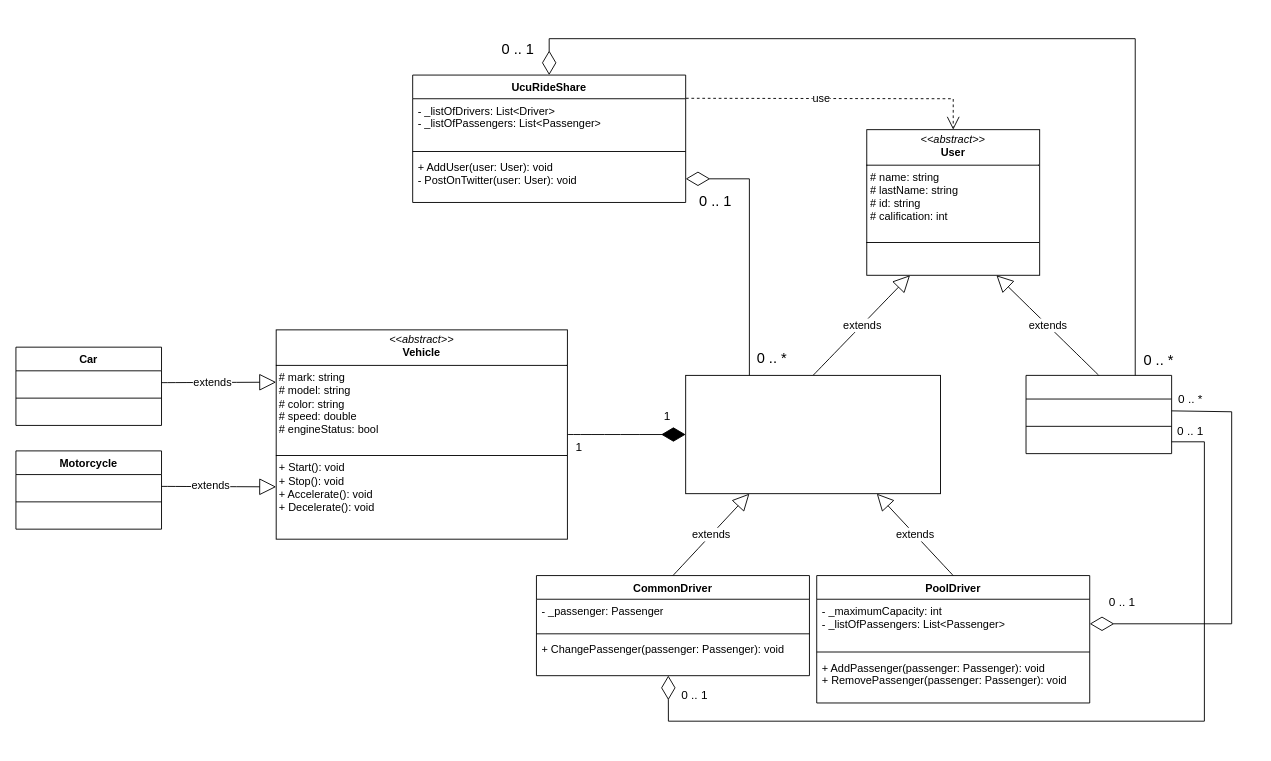
Image size: 1271x761. Some labels were removed from this diagram. The centre of each missing label's shape, as x and y in pixels:
"<<abstract>> Driver # vehicle: Vehicle # biography: string" goes at point (812, 434).
"Passenger" goes at point (1098, 414).
